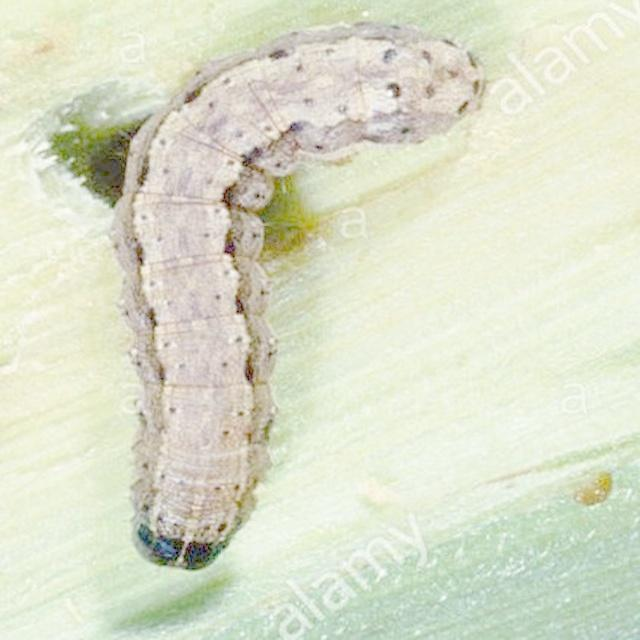Plaga: (104, 15, 492, 573)
